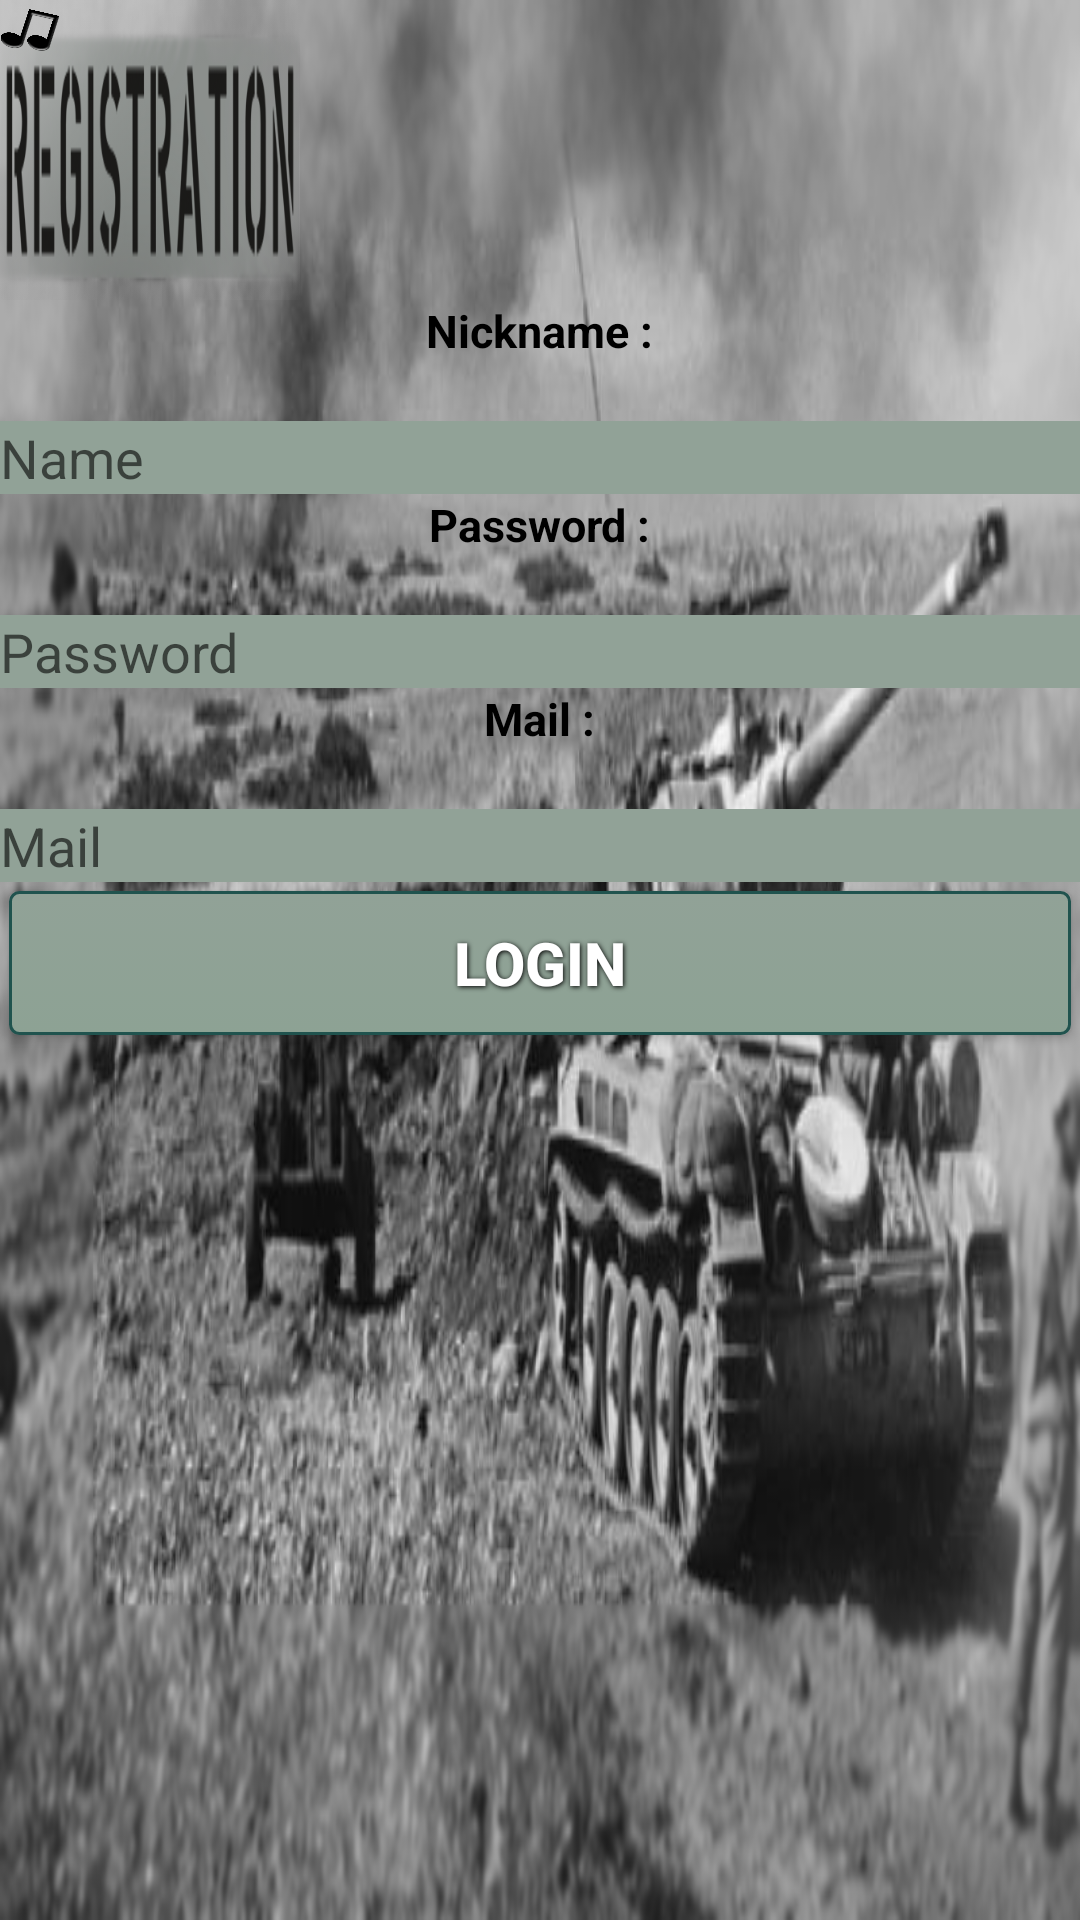

Where icons sit on this 1080*1920 app screen, as (x1, y1, x2, y2):
music: (1, 9, 59, 51)
